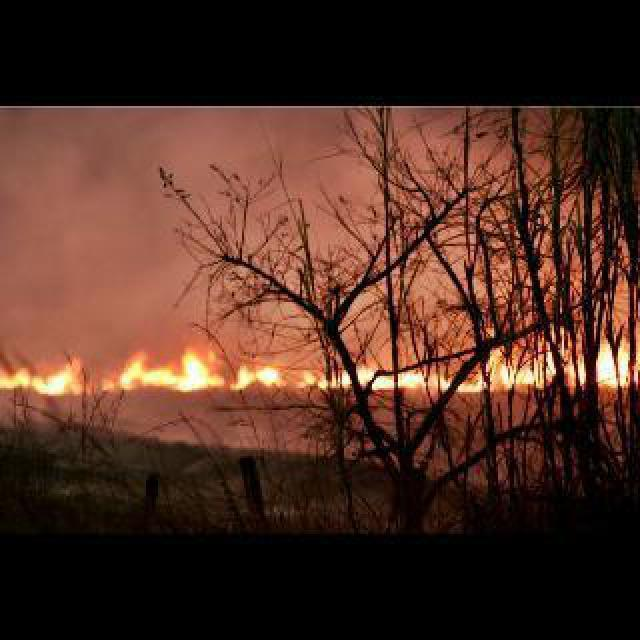Fire: (438, 334, 632, 388), (112, 350, 284, 386), (2, 352, 92, 396), (298, 366, 424, 386)
